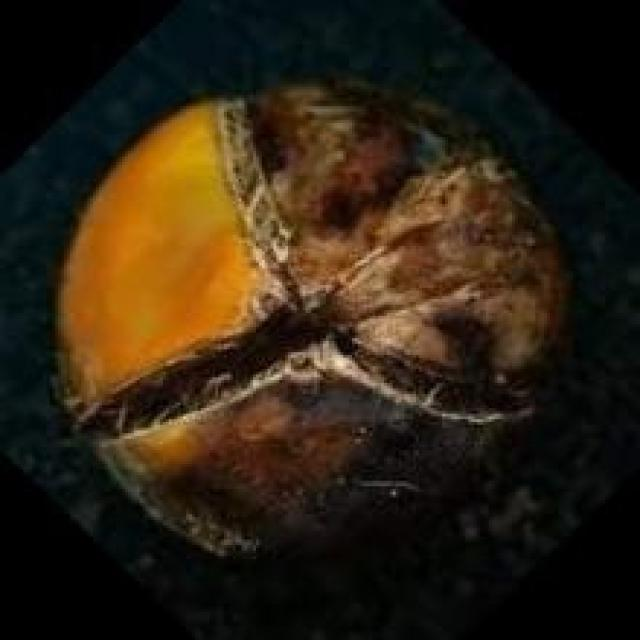damaged: (61, 78, 570, 551)
